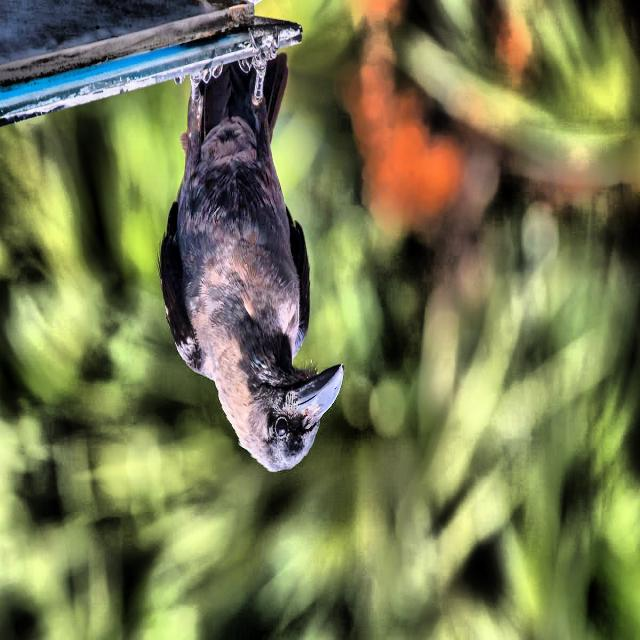crow: (154, 25, 386, 478)
